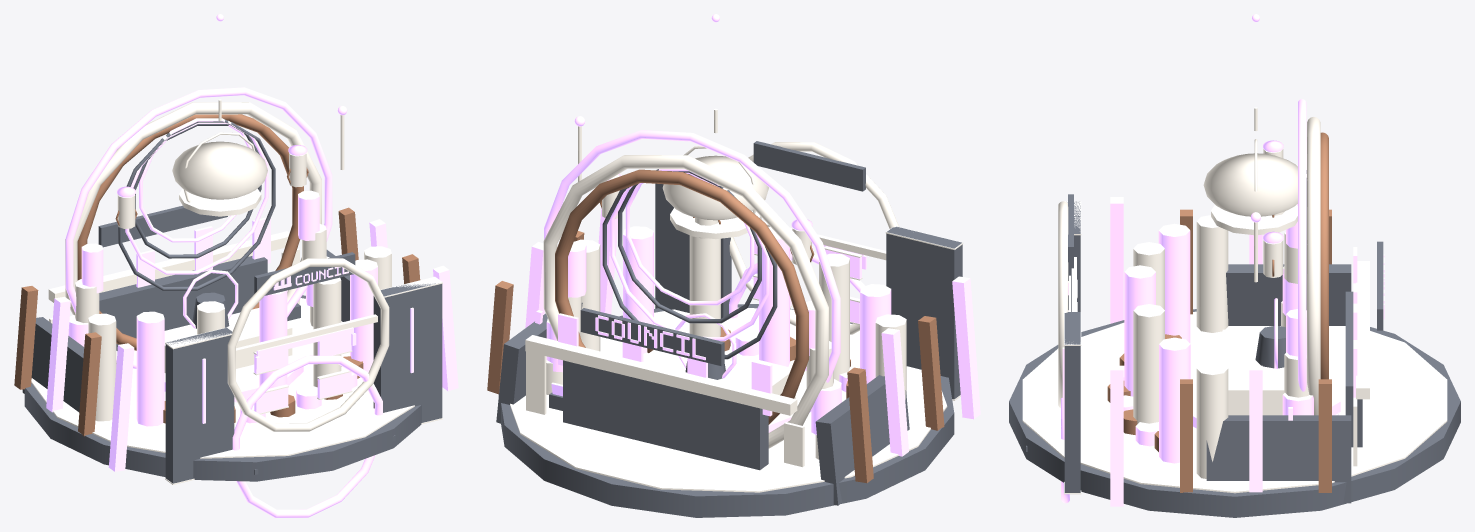
Rendered from council.glb.
3 renders of one model, left to right at view 1: azimuth 30°, elevation 25°; view 2: azimuth 150°, elevation 25°; view 3: azimuth 270°, elevation 25°, orthographic. The views are drawn at different scales.
Parts seen in each view (by area): view 1: council:near:surface:0, council:near:surface:2, council:near:surface:1, council:far:surface:0, council:near:surface:3, council:city-identity:assembly-halo; view 2: council:near:surface:0, council:near:surface:2, council:near:surface:1, council:far:surface:0, council:city-identity:assembly-halo, council:near:surface:3; view 3: council:near:surface:0, council:near:surface:1, council:far:surface:0, council:near:surface:2, council:near:surface:3, council:city-identity:assembly-halo.
Part boxes in pixels (x1=…): council:near:surface:0: x1=22, y1=119, x2=442, y2=483; council:near:surface:2: x1=46, y1=14, x2=458, y2=517; council:near:surface:1: x1=48, y1=99, x2=442, y2=484; council:far:surface:0: x1=31, y1=102, x2=414, y2=458; council:near:surface:3: x1=14, y1=167, x2=420, y2=436; council:city-identity:assembly-halo: x1=77, y1=114, x2=303, y2=350; council:near:surface:0: x1=496, y1=141, x2=962, y2=517; council:near:surface:2: x1=525, y1=14, x2=980, y2=456; council:near:surface:1: x1=525, y1=108, x2=963, y2=467; council:far:surface:0: x1=510, y1=155, x2=947, y2=492; council:city-identity:assembly-halo: x1=555, y1=169, x2=808, y2=424; council:near:surface:3: x1=487, y1=200, x2=944, y2=483; council:near:surface:0: x1=1009, y1=170, x2=1460, y2=517; council:near:surface:1: x1=1058, y1=107, x2=1369, y2=494; council:far:surface:0: x1=1022, y1=117, x2=1447, y2=493; council:near:surface:2: x1=1061, y1=14, x2=1384, y2=506; council:near:surface:3: x1=1107, y1=209, x2=1331, y2=492; council:city-identity:assembly-halo: x1=1320, y1=132, x2=1328, y2=379.
Size of the model in its own units: 16.4 by 19.22 by 16.4.
